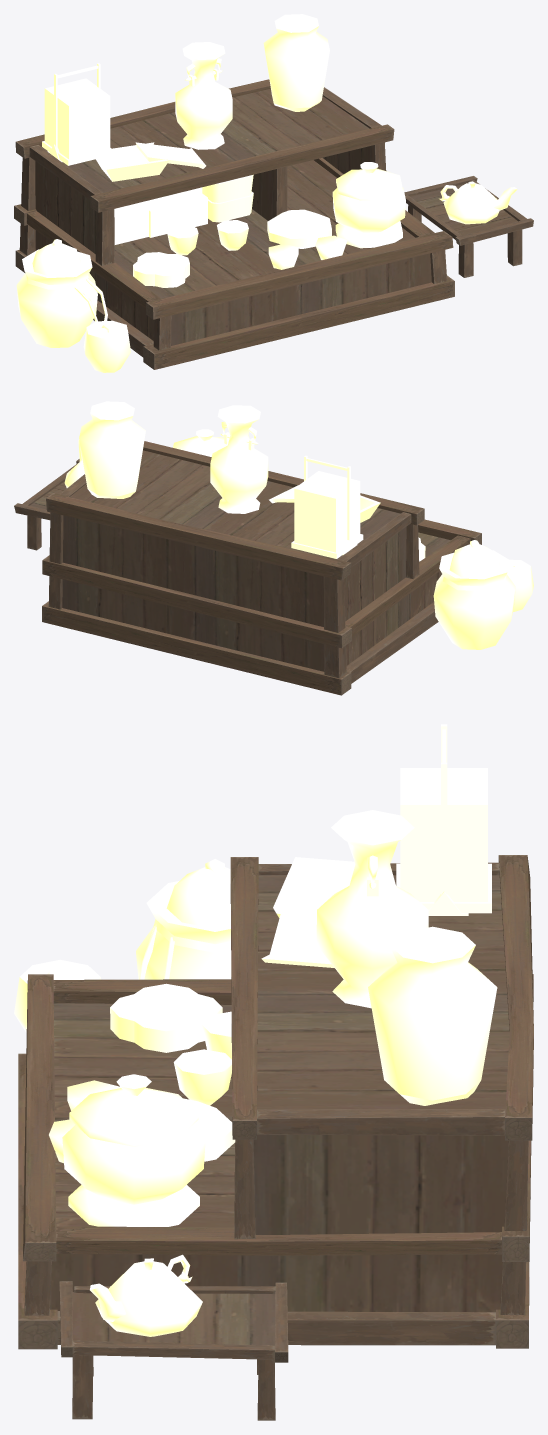
File: Homeworld_Exterior_Common_Thing_Teaset_01_Lod0.fbx
The picture shows the model from 3 angles, top to bottom: view 1: azimuth 30°, elevation 25°; view 2: azimuth 150°, elevation 25°; view 3: azimuth 270°, elevation 25°; orthographic projection. The views are drawn at different scales.
Visible parts, largest first — view 1: Area_Ly_Prop_Common_Varia_C_06_Lod0; view 2: Area_Ly_Prop_Common_Varia_C_06_Lod0; view 3: Area_Ly_Prop_Common_Varia_C_06_Lod0.
Boxes of the visible parts, x1=… form: Area_Ly_Prop_Common_Varia_C_06_Lod0: x1=14, y1=14, x2=533, y2=372; Area_Ly_Prop_Common_Varia_C_06_Lod0: x1=14, y1=401, x2=533, y2=695; Area_Ly_Prop_Common_Varia_C_06_Lod0: x1=14, y1=724, x2=533, y2=1420.
Size of what is drawn, in the model's own units: 4.09 by 1.74 by 2.13.
2 materials, 1 textured.
